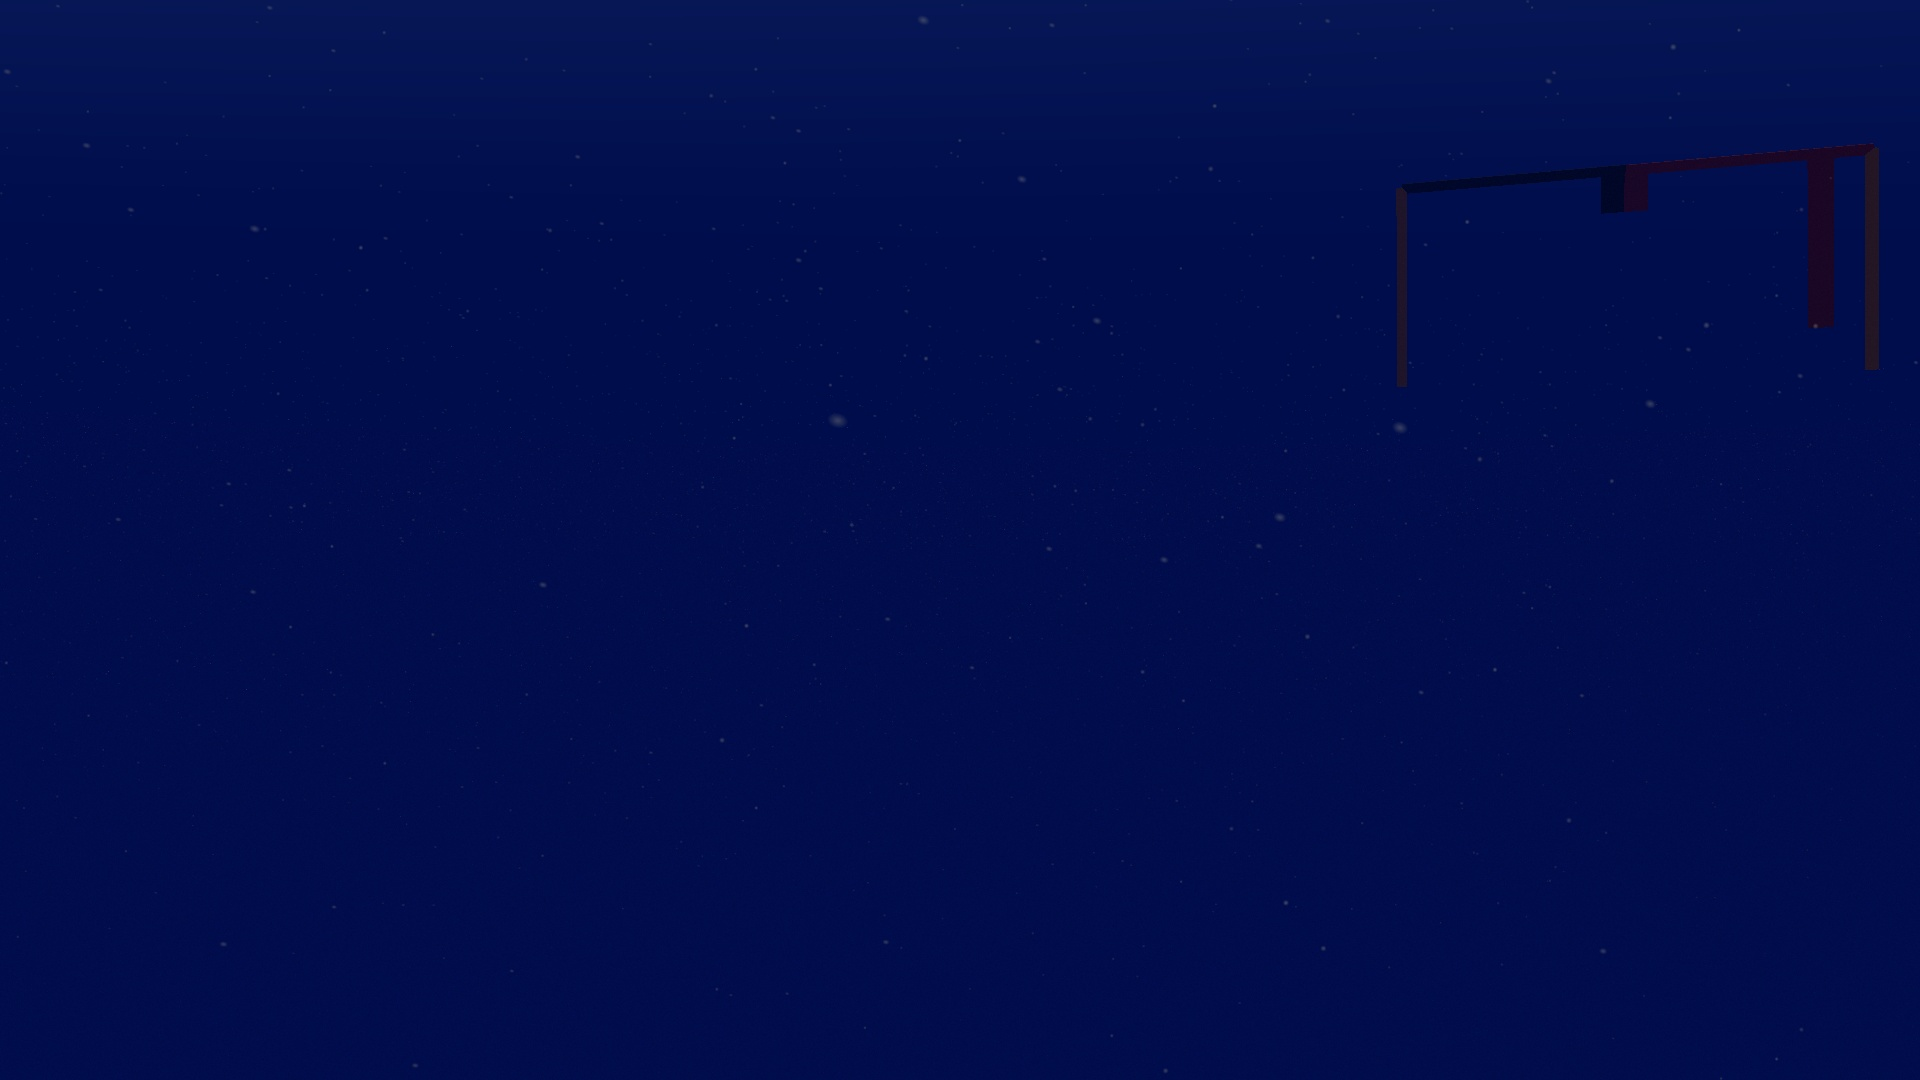Gate: (1385, 142, 1884, 397)
